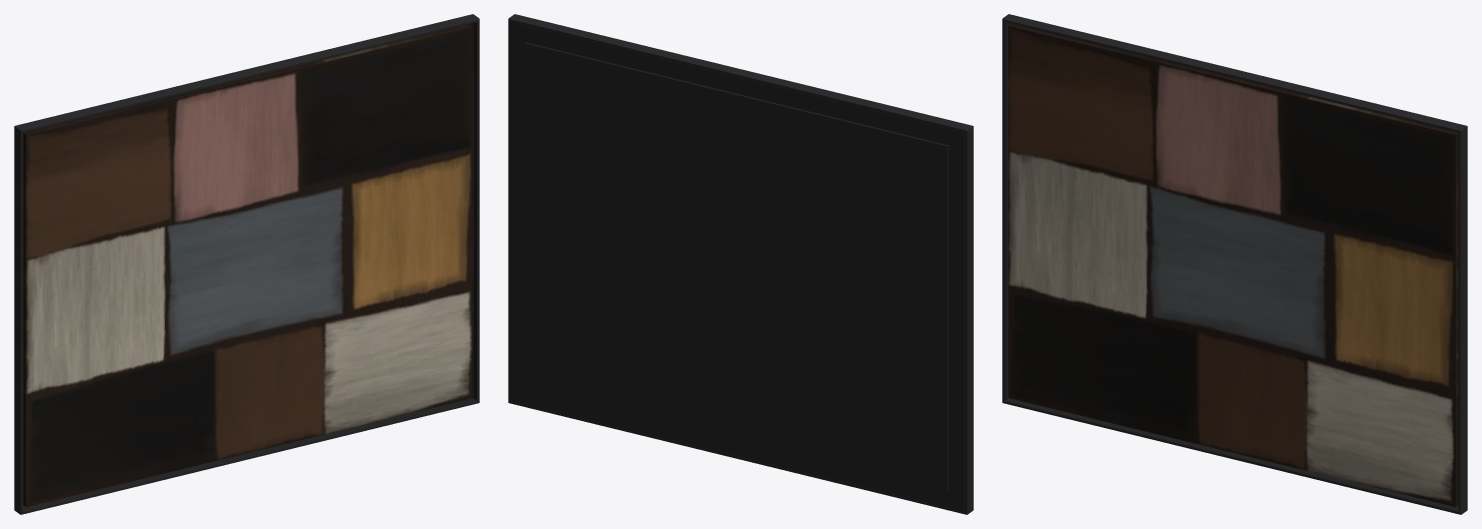
File: art_blocks_umber.gltf
The picture shows the model from 3 angles, left to right: view 1: azimuth 30°, elevation 25°; view 2: azimuth 150°, elevation 25°; view 3: azimuth 330°, elevation 25°; orthographic projection.
Visible parts, largest first — view 1: Art_BlocksUmber_Art, Art_BlocksUmber_Frame; view 2: Art_BlocksUmber_Spacer, Art_BlocksUmber_Tray, Art_BlocksUmber_Frame; view 3: Art_BlocksUmber_Art, Art_BlocksUmber_Frame.
Boxes of the visible parts, x1,y1,x2,y2 form: Art_BlocksUmber_Art: (23,24,473,507); Art_BlocksUmber_Frame: (14,14,479,514); Art_BlocksUmber_Spacer: (525,42,948,492); Art_BlocksUmber_Tray: (511,22,964,511); Art_BlocksUmber_Frame: (508,14,973,514); Art_BlocksUmber_Art: (1008,24,1458,507); Art_BlocksUmber_Frame: (1002,14,1467,514).
Bounding box in the file's own units: 2 × 1.6 × 0.0601.
2 materials, 1 textured.
